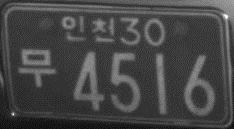0: (144, 17, 165, 46)
1: (147, 53, 175, 114)
3: (119, 16, 140, 45)
4: (72, 50, 104, 111)
5: (110, 51, 141, 112)
6: (184, 54, 216, 115)
무: (16, 48, 57, 87)
인천_O: (61, 14, 116, 43)
